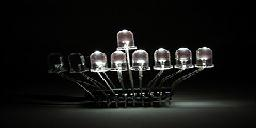LED: (112, 26, 140, 53), (128, 48, 151, 73), (44, 52, 64, 77), (197, 47, 216, 68)
